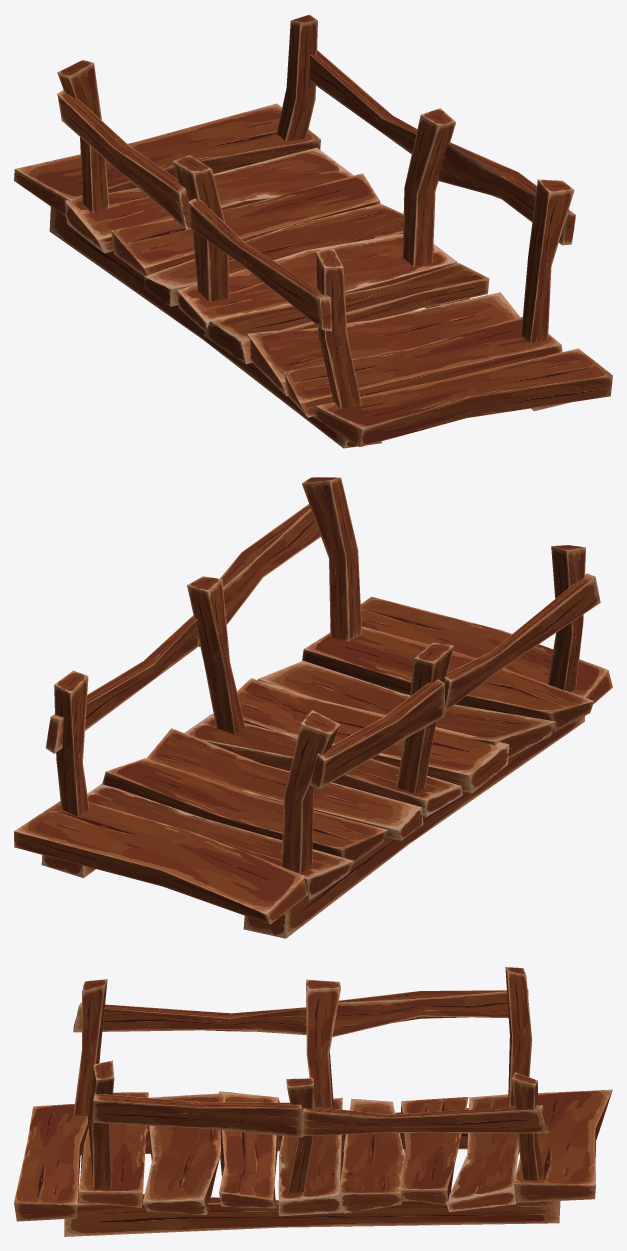
Rendered from SM_PROP_bridge_wood_02.fbx.
The picture shows the model from 3 angles, top to bottom: view 1: azimuth 30°, elevation 25°; view 2: azimuth 150°, elevation 25°; view 3: azimuth 270°, elevation 25°; orthographic projection. The views are drawn at different scales.
Visible parts, largest first — view 1: SM_PROP_bridge_wood_02; view 2: SM_PROP_bridge_wood_02; view 3: SM_PROP_bridge_wood_02.
Part boxes in pixels (bbox=[...]): SM_PROP_bridge_wood_02: bbox=[14, 14, 612, 448]; SM_PROP_bridge_wood_02: bbox=[14, 477, 612, 938]; SM_PROP_bridge_wood_02: bbox=[14, 967, 612, 1236].
Size of what is drawn, in the model's own units: 203 by 143 by 442.
